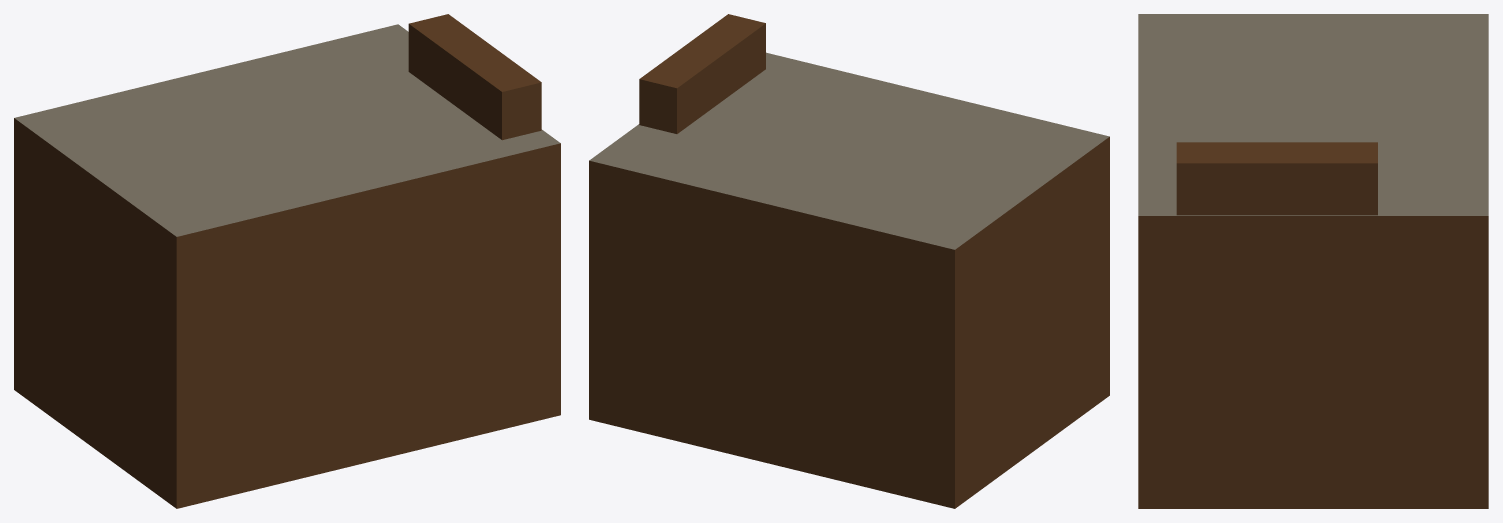
File: rw-river-flats.towns-v1.lod2.glb
3 views of the same model, side by side, from view 1: azimuth 30°, elevation 25°; view 2: azimuth 150°, elevation 25°; view 3: azimuth 270°, elevation 25° (orthographic). The views are drawn at different scales.
Parts seen in each view (by area): view 1: rw-river-flats; view 2: rw-river-flats; view 3: rw-river-flats.
Boxes of the visible parts, x1=… form: rw-river-flats: x1=14, y1=14, x2=560, y2=508; rw-river-flats: x1=589, y1=14, x2=1109, y2=508; rw-river-flats: x1=1138, y1=14, x2=1488, y2=508.
Bounding box in the file's own units: 15 × 11.95 × 11.
